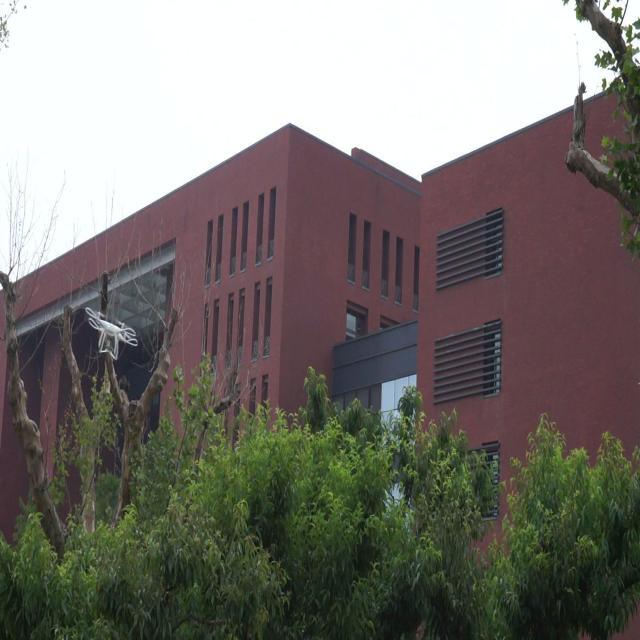drone: (84, 304, 140, 362)
